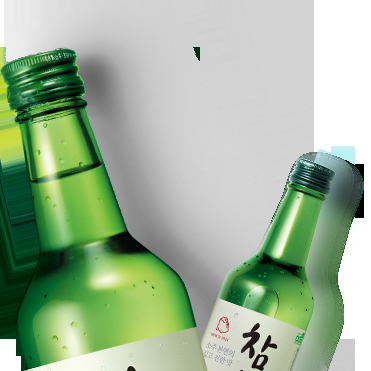soju: (2, 46, 213, 371), (199, 154, 336, 371)
